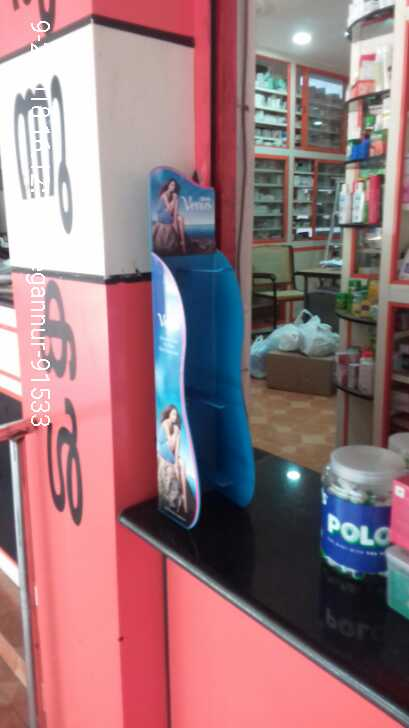reject: (178, 119, 393, 325)
